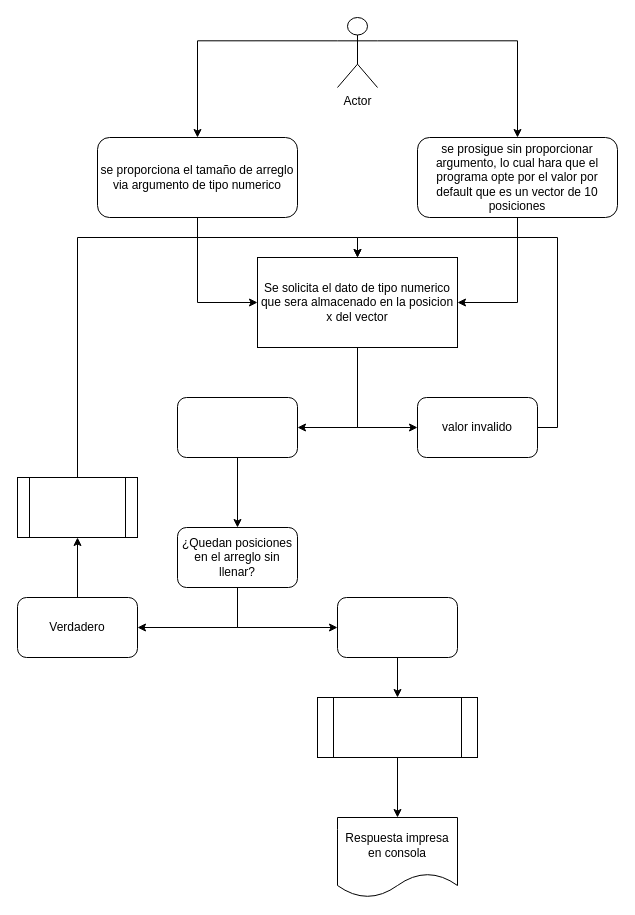
Some shapes in this 635 by 915 pixel diagram are drawn without their labels. The centre of each missing label's shape, as x and y in pixels:
Falso: point 397,627
Se procesa la informacion requerida: point 397,727
valor valido: point 237,427
x aumenta: point 77,507
